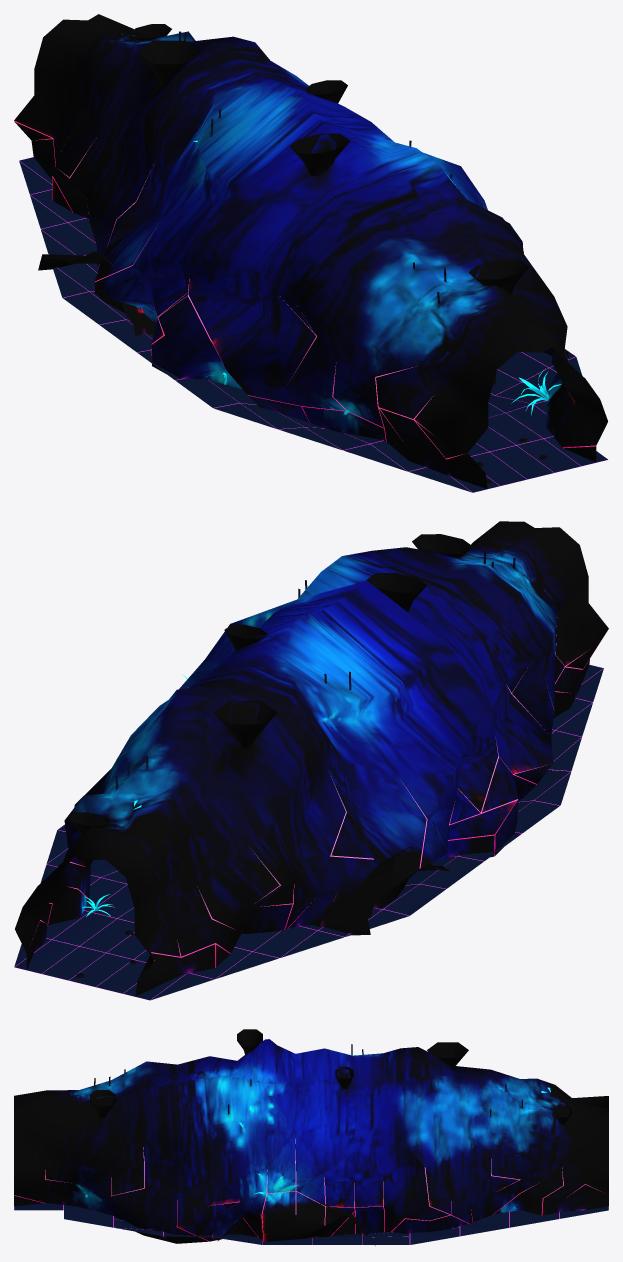
File: Cave_Corridor_2.fbx
3 renders of one model, top to bottom at view 1: azimuth 30°, elevation 25°; view 2: azimuth 150°, elevation 25°; view 3: azimuth 270°, elevation 25°, orthographic. The views are drawn at different scales.
Visible parts, largest first — view 1: Cave_Corridor_2; view 2: Cave_Corridor_2; view 3: Cave_Corridor_2.
Part boxes in pixels (x1=…): Cave_Corridor_2: x1=14, y1=14, x2=608, y2=492; Cave_Corridor_2: x1=14, y1=521, x2=608, y2=1000; Cave_Corridor_2: x1=14, y1=1029, x2=608, y2=1245.
Bounding box in the file's own units: 20.8 × 13.97 × 46.
